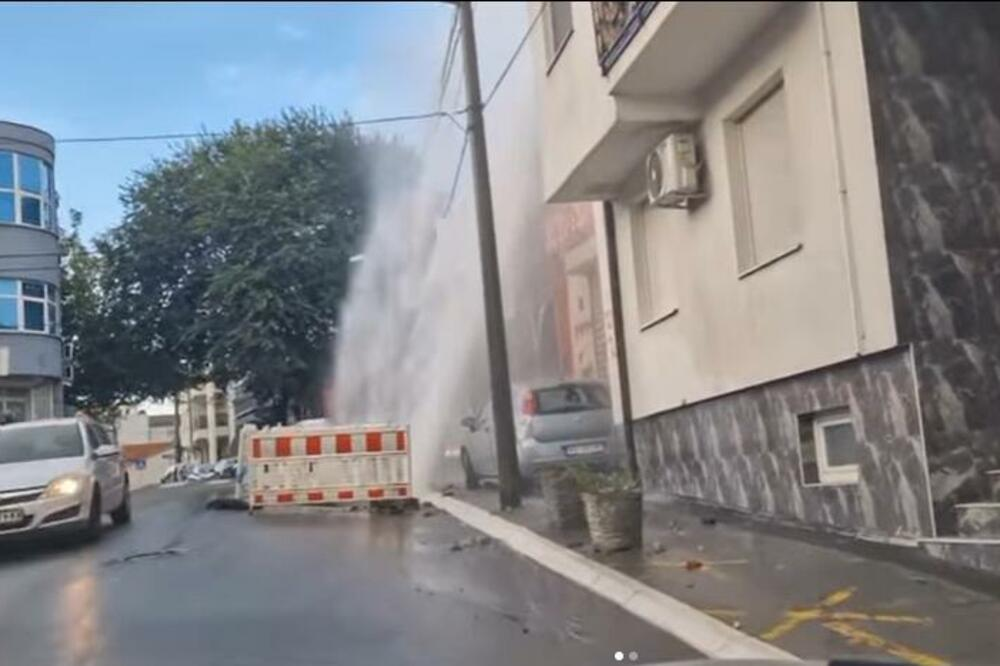pipe burst: (328, 77, 540, 500)
